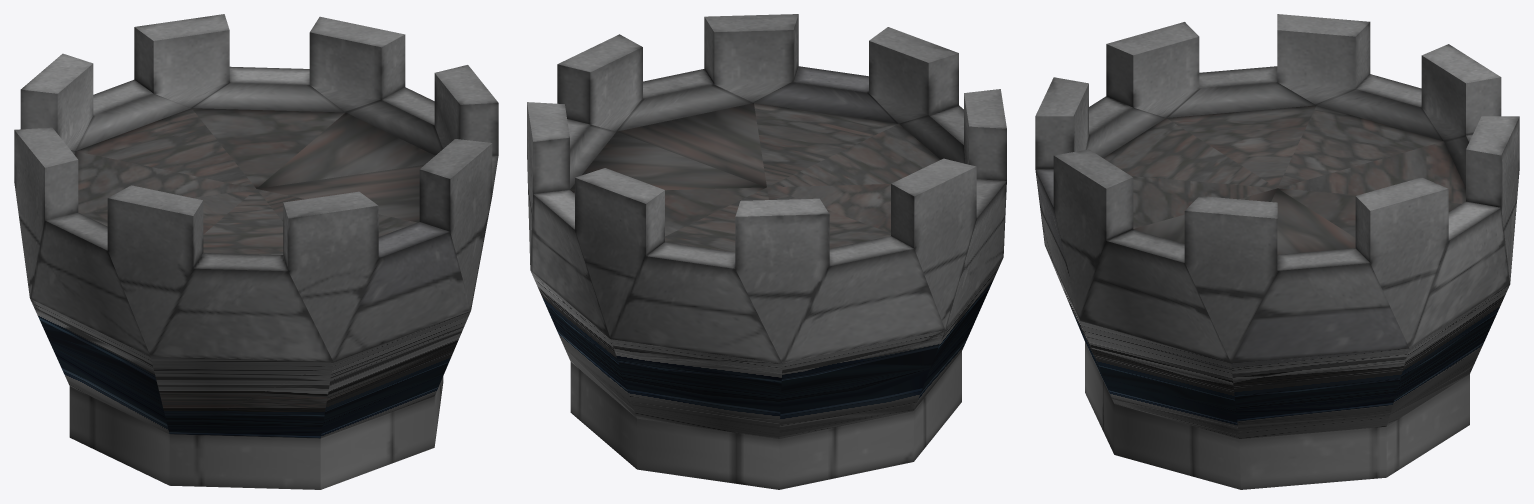
File: sb_obj_outdoor002_DemonsCastle01_CircleWallTop02_col.fbx
3 renders of one model, left to right at view 1: azimuth 30°, elevation 25°; view 2: azimuth 150°, elevation 25°; view 3: azimuth 270°, elevation 25°, orthographic.
Visible parts, largest first — view 1: sb_obj_outdoor002_DemonsCastle01_CircleWallTop02_col; view 2: sb_obj_outdoor002_DemonsCastle01_CircleWallTop02_col; view 3: sb_obj_outdoor002_DemonsCastle01_CircleWallTop02_col.
Part boxes in pixels (x1=…): sb_obj_outdoor002_DemonsCastle01_CircleWallTop02_col: x1=14, y1=14, x2=498, y2=489; sb_obj_outdoor002_DemonsCastle01_CircleWallTop02_col: x1=527, y1=14, x2=1006, y2=489; sb_obj_outdoor002_DemonsCastle01_CircleWallTop02_col: x1=1035, y1=14, x2=1519, y2=489.
Bounding box in the file's own units: 3.83 × 2.55 × 3.83.
